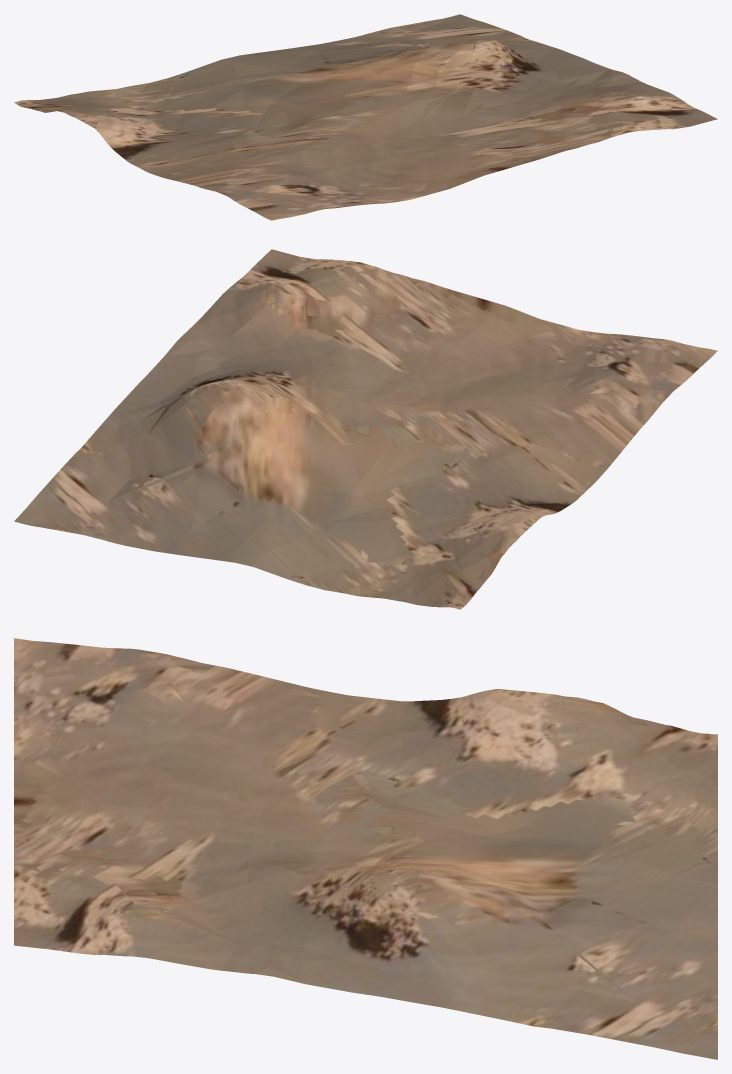
3 views of the same model, one above another, from view 1: azimuth 30°, elevation 25°; view 2: azimuth 150°, elevation 25°; view 3: azimuth 270°, elevation 25° (orthographic). The views are drawn at different scales.
Bounding box in the file's own units: 2.09 × 0.4153 × 2.09.
3 materials, 3 textured.
